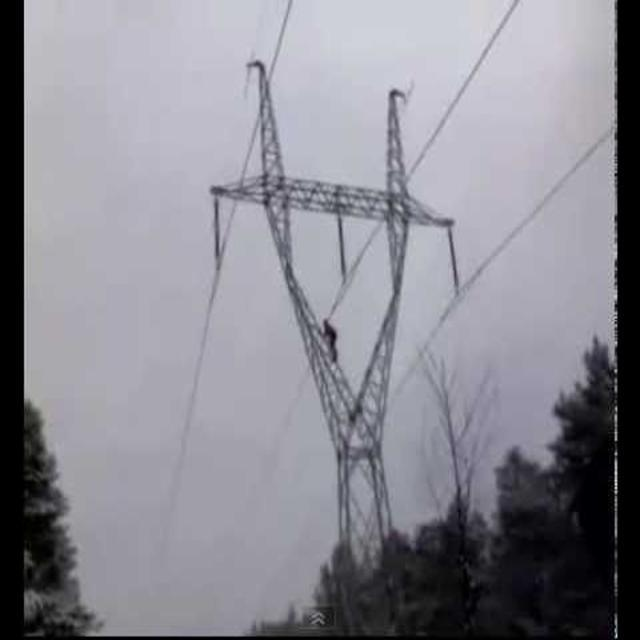non-critical vegetation: (210, 42, 460, 588)
